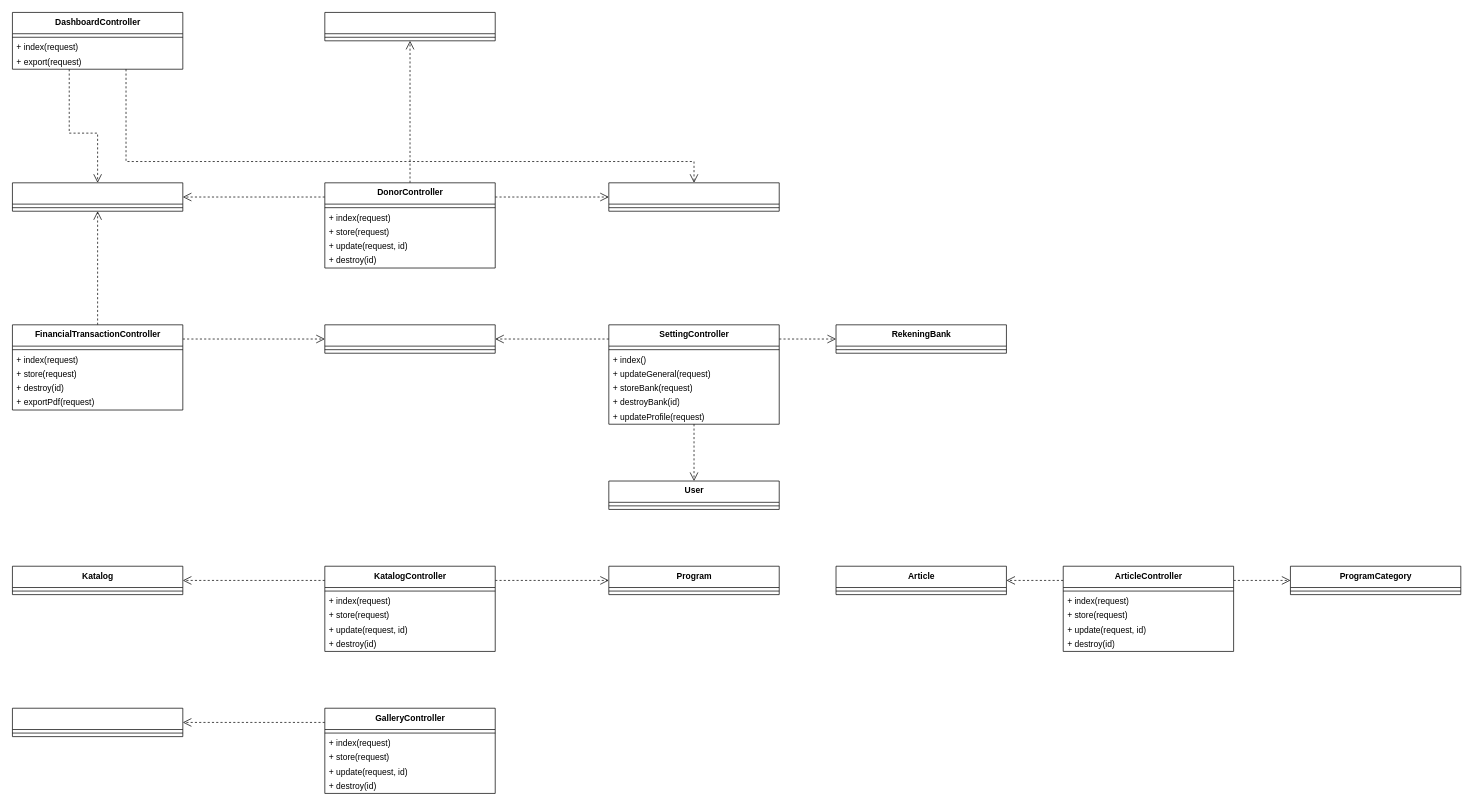
The diagram is 1473 pixels wide and 806 high, and some of its shapes have lost their labels. Each missing label, with the centre of its shape:
"Donatur" belongs at [409,26].
"FinanceSummaryService" belongs at [693,196].
"FinancialTransaction" belongs at [97,196].
"GalleryPhoto" belongs at [97,722].
"Pengaturan" belongs at [409,338].
